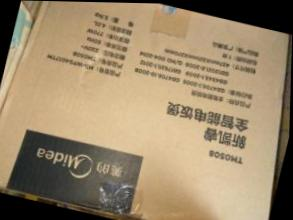cardboard: (0, 1, 290, 219)
